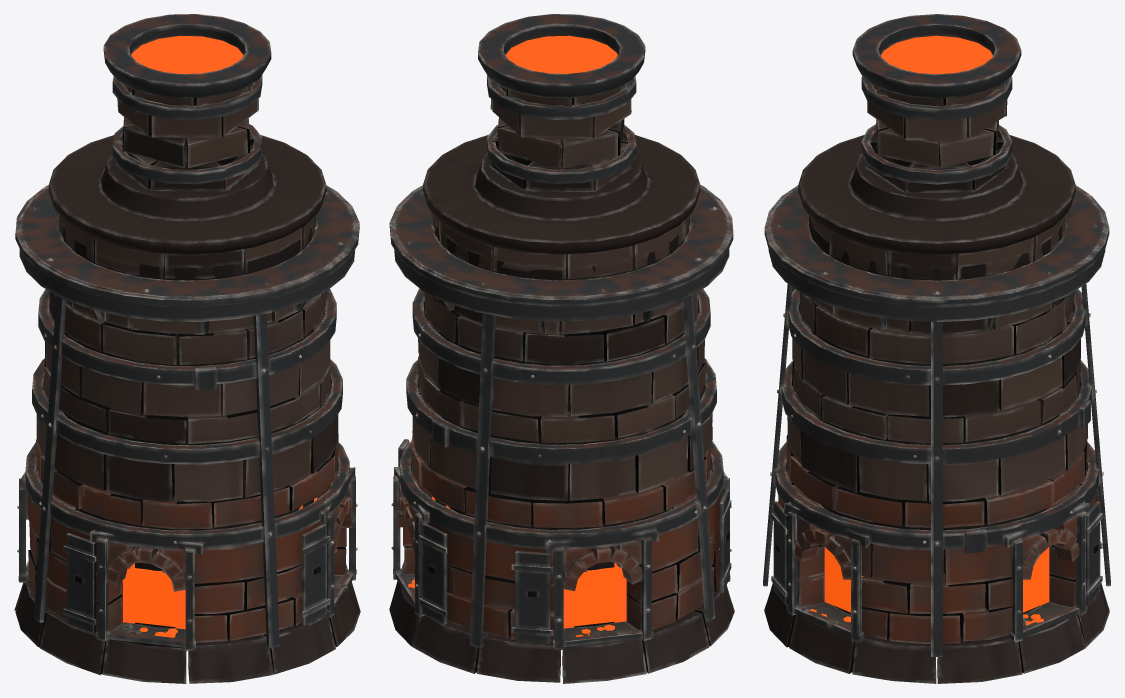
The model's file is foundry_furnace.glb.
3 views of the same model, side by side, from view 1: azimuth 30°, elevation 25°; view 2: azimuth 150°, elevation 25°; view 3: azimuth 270°, elevation 25° (orthographic).
Parts seen in each view (by area): view 1: foundry_furnace, foundry_furnace_glow; view 2: foundry_furnace, foundry_furnace_glow; view 3: foundry_furnace, foundry_furnace_glow.
Part boxes in pixels (x1,y1,x2,y2): foundry_furnace: [14, 14, 360, 683]; foundry_furnace_glow: [122, 35, 317, 637]; foundry_furnace: [389, 14, 734, 683]; foundry_furnace_glow: [408, 35, 626, 636]; foundry_furnace: [763, 14, 1110, 683]; foundry_furnace_glow: [810, 35, 1049, 625].
Size of the model in its own units: 5.16 by 9.21 by 5.16.
Materials: 3 (1 with a texture image).
